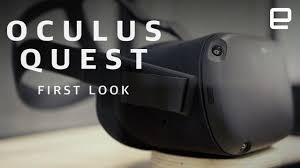oculus: (96, 33, 294, 159)
